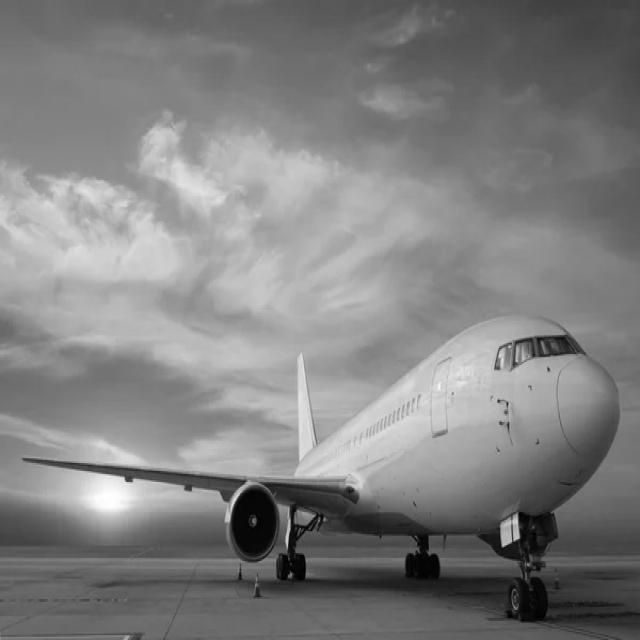Aircraft: (29, 304, 627, 595)
